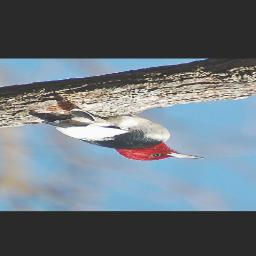Woodpecker: (40, 107, 209, 161)
